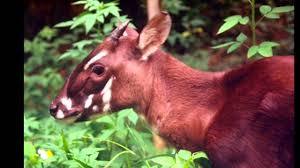sao_la: (49, 16, 251, 149)
